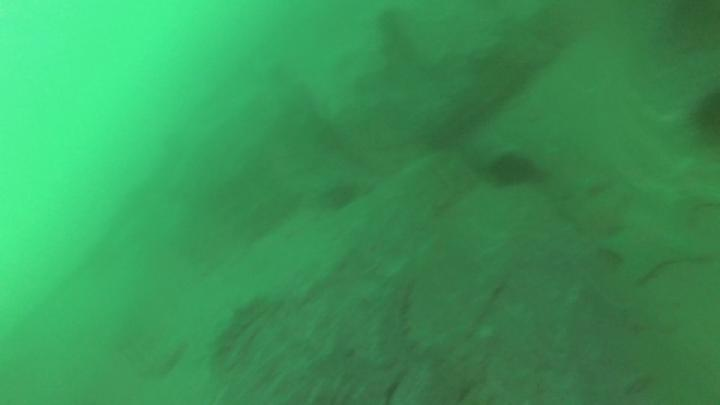echinus: (484, 146, 538, 190)
holothurian: (213, 294, 273, 365)
starfish: (598, 197, 720, 291)
